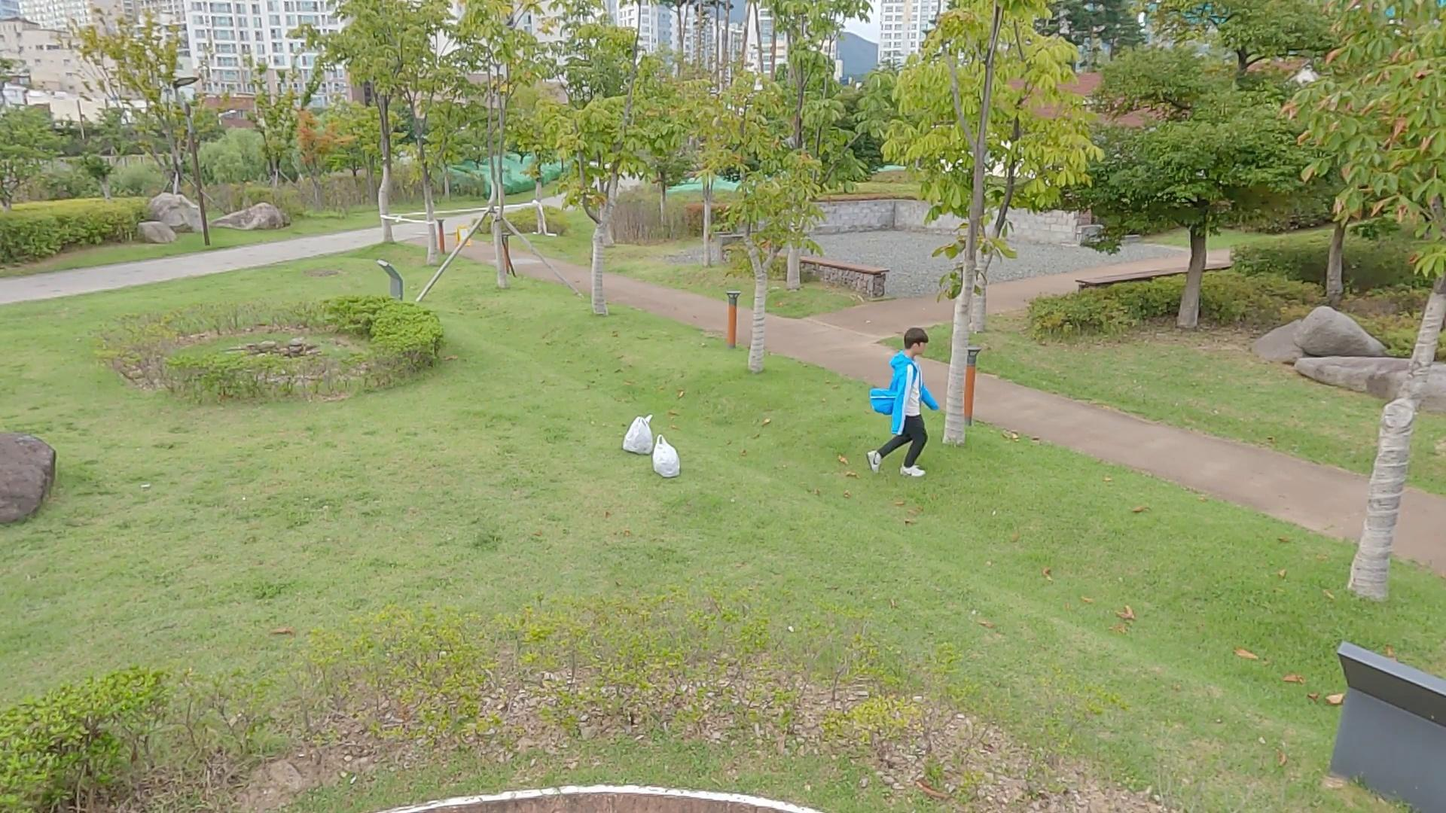person: (866, 326, 942, 478)
trash: (645, 432, 686, 480), (622, 408, 655, 458)
